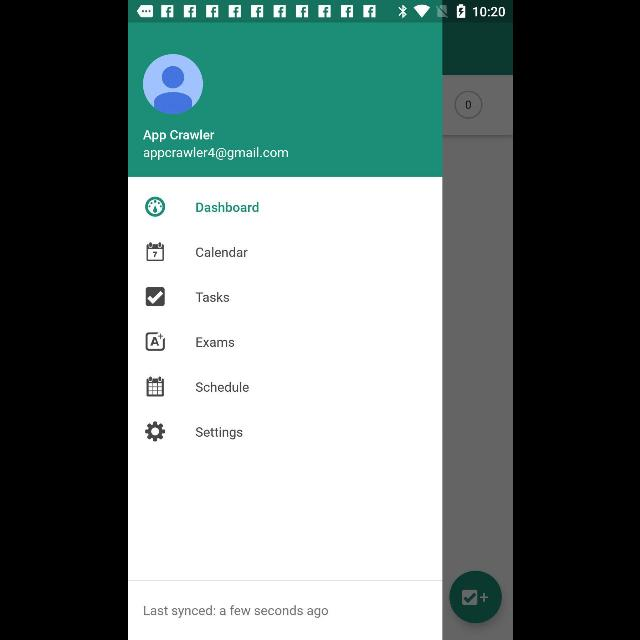icon: (144, 421, 164, 442), (144, 197, 164, 217), (145, 377, 163, 398), (145, 242, 163, 262), (144, 333, 164, 351), (145, 287, 163, 305)
image: (142, 54, 202, 114)
panel: (128, 22, 442, 640)
text: (142, 604, 328, 618), (142, 148, 288, 160), (142, 130, 214, 142), (195, 246, 247, 258), (196, 202, 258, 212), (195, 426, 242, 439), (196, 382, 248, 392), (196, 337, 234, 347), (195, 292, 229, 302)
uppertaskbar: (128, 1, 512, 23)
